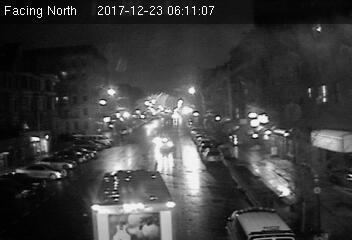car: (200, 147, 225, 164), (155, 136, 175, 148)
police: (224, 204, 307, 238)
truck: (90, 166, 181, 240)
